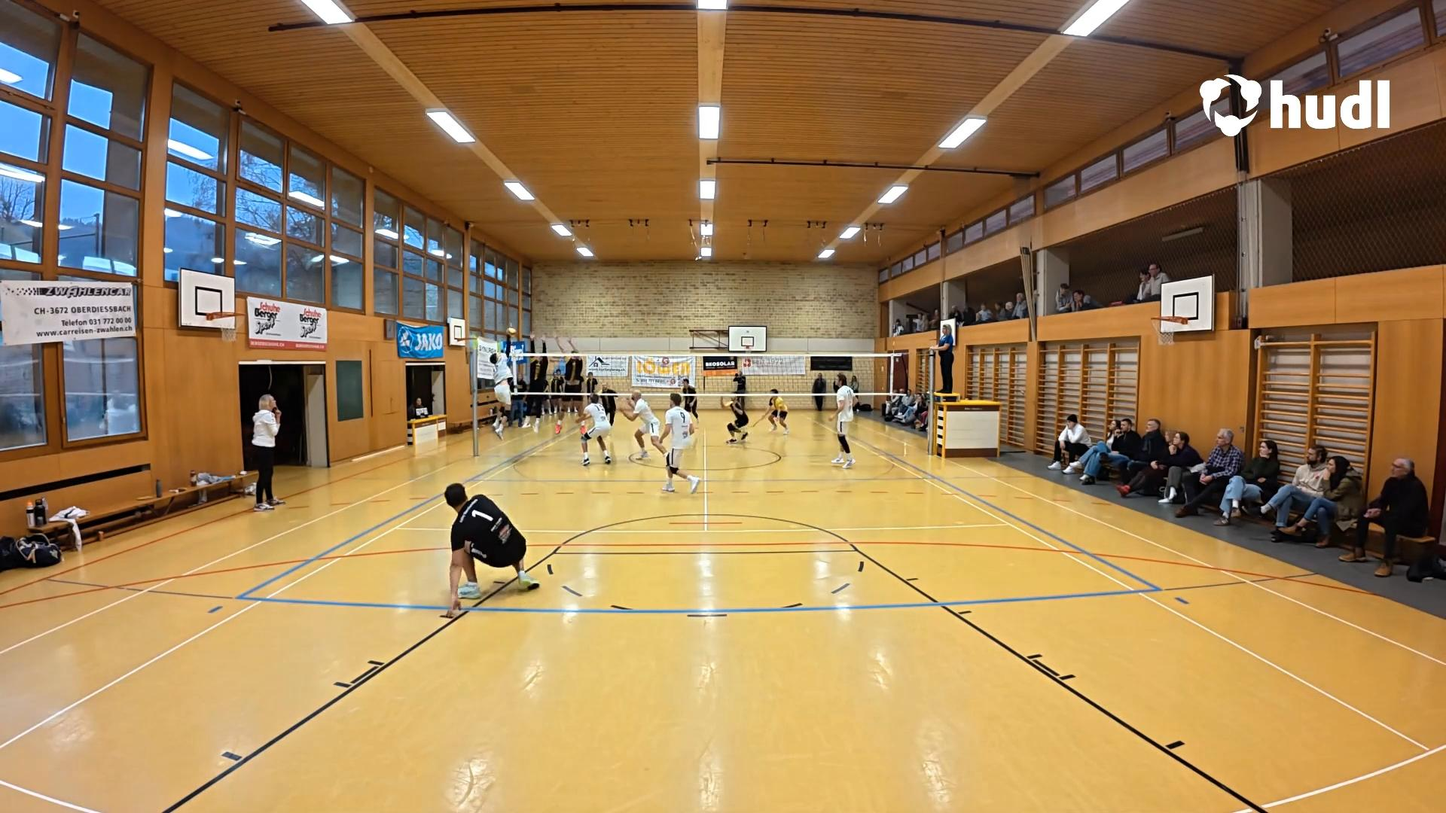attacco: (481, 326, 520, 441)
muro: (552, 331, 587, 434), (522, 332, 550, 435)
